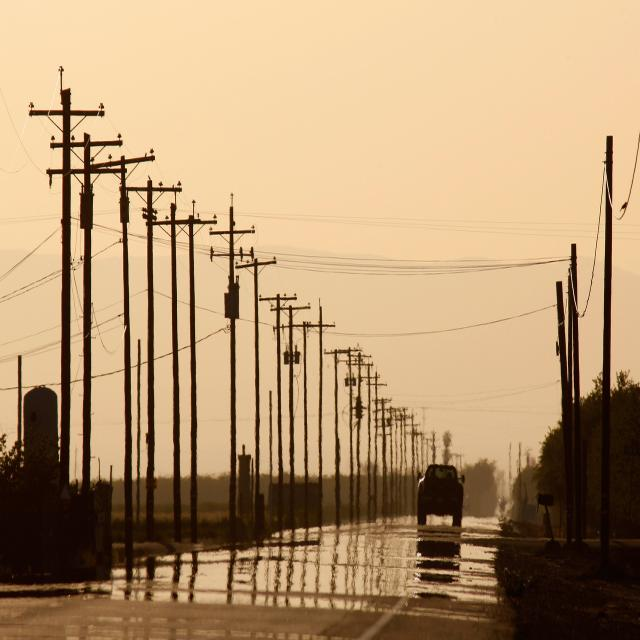car: (415, 461, 465, 524)
